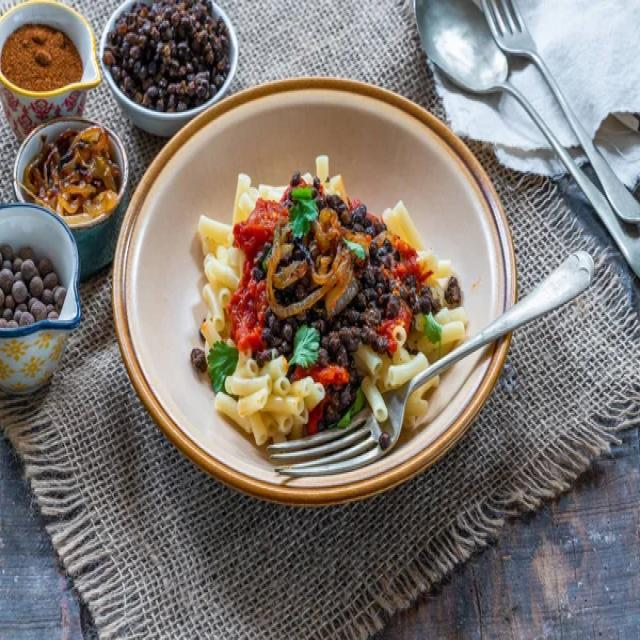homs: (0, 232, 64, 341)
koshary: (186, 159, 462, 449)
pasal: (23, 120, 122, 224)
